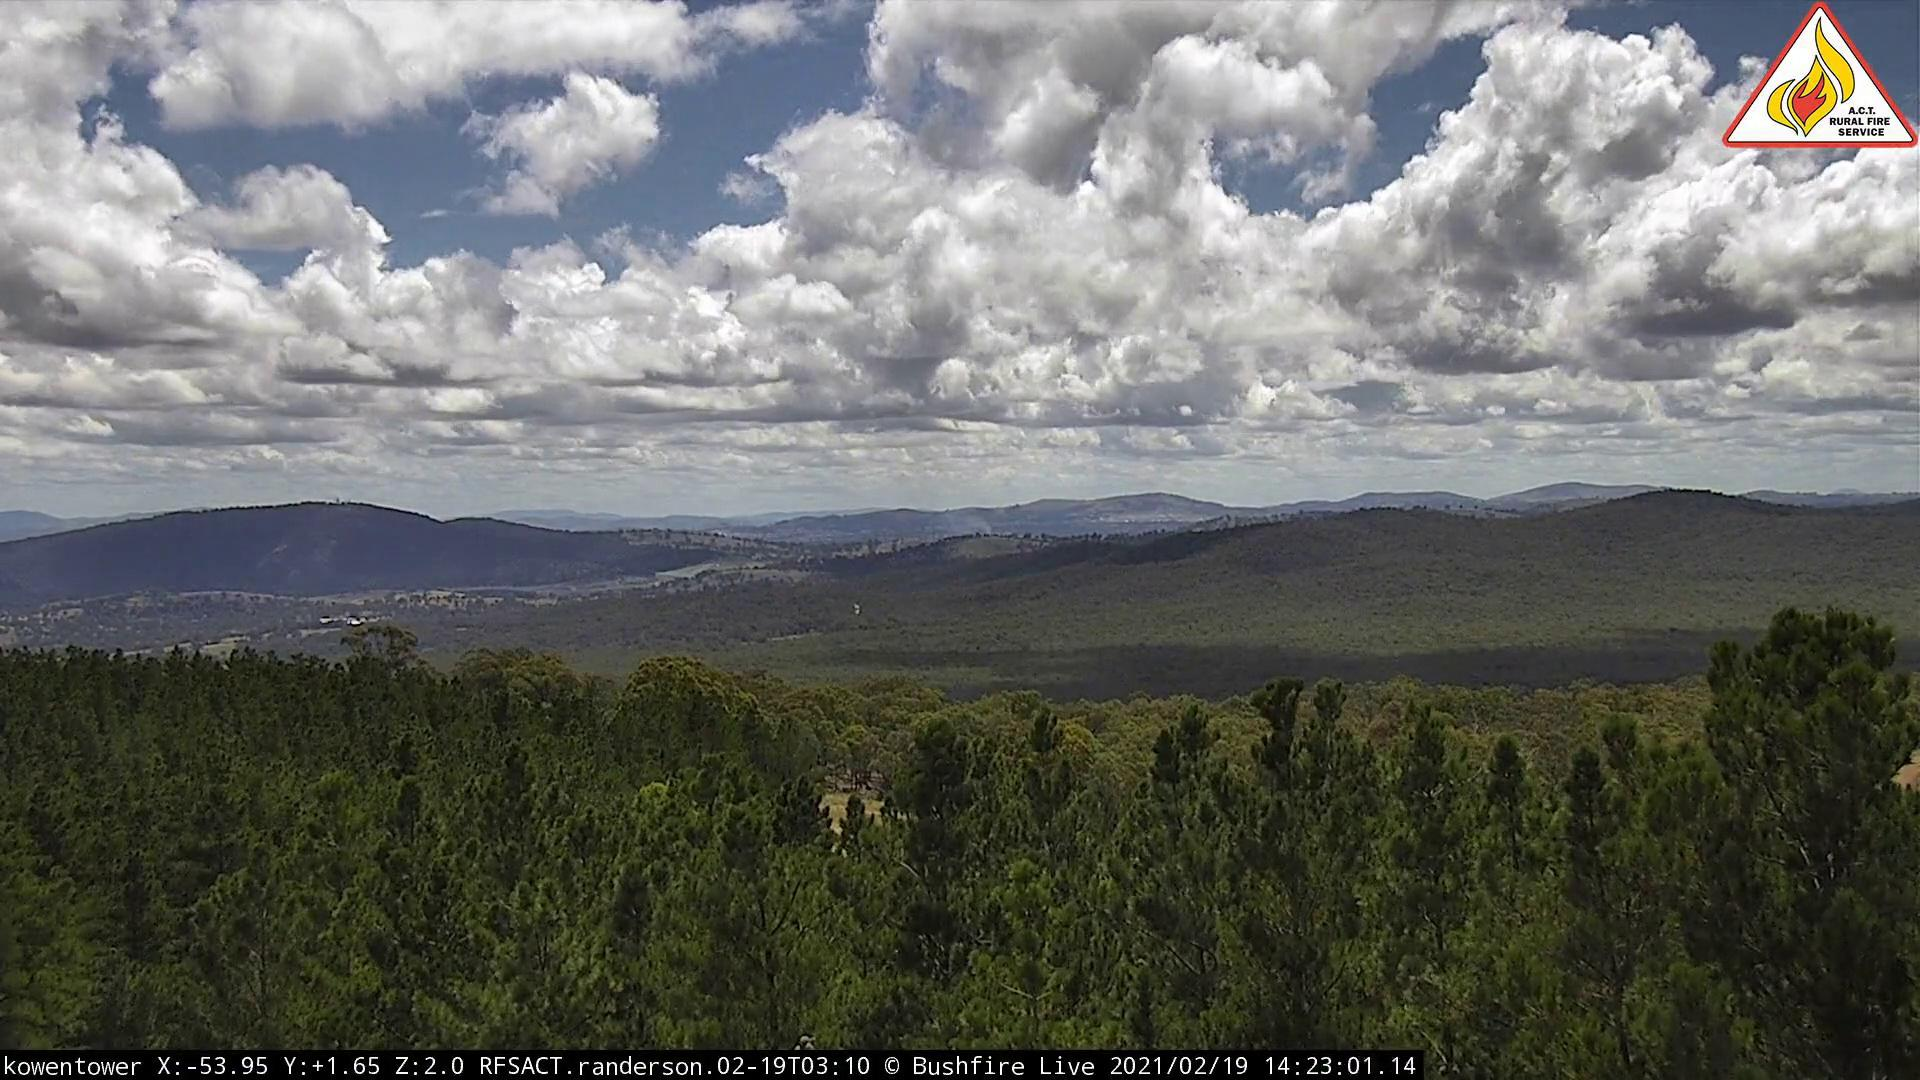instance_salient_object: (964, 521, 1001, 549)
